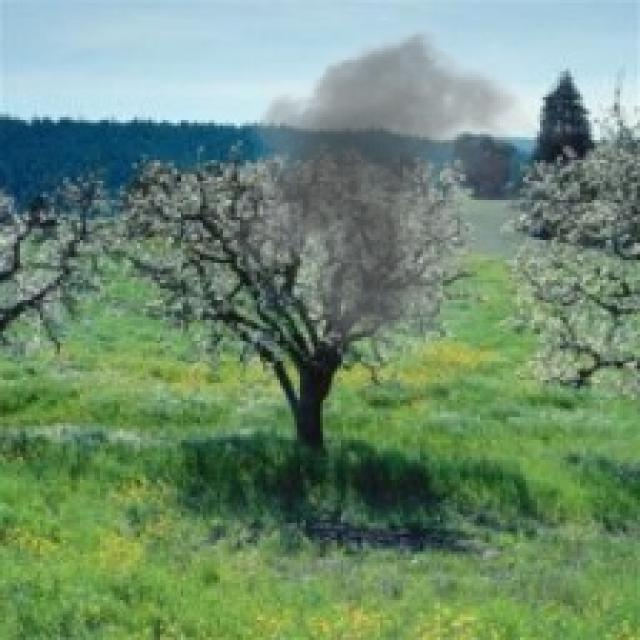Smoke: (214, 6, 583, 363)
